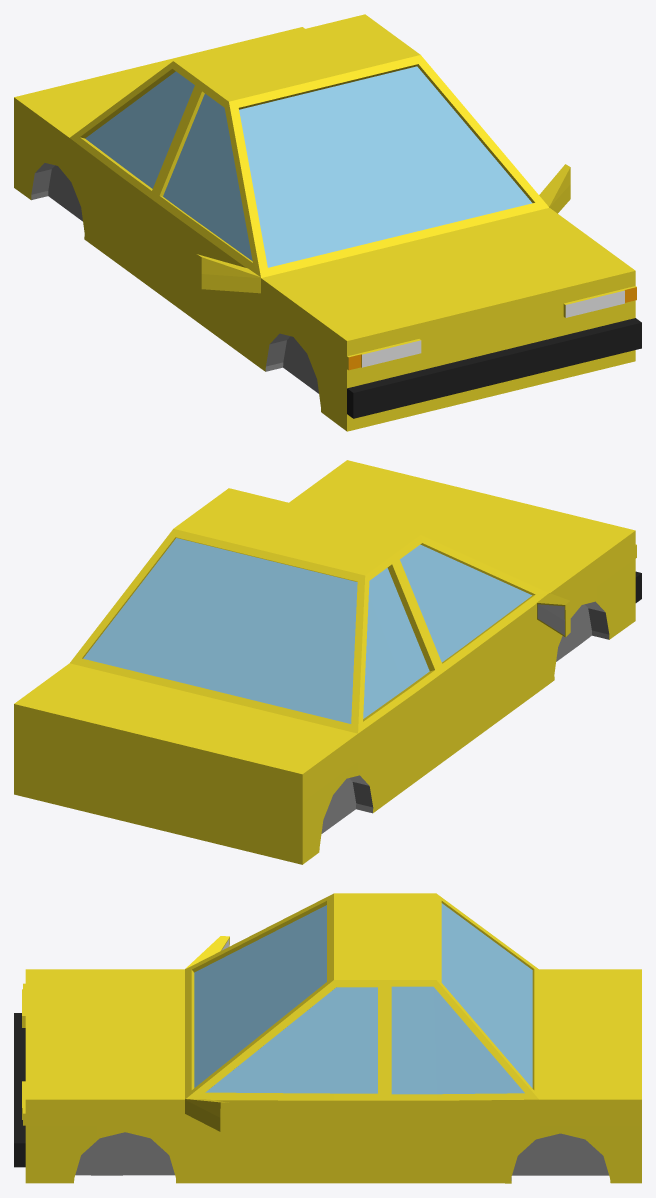
The model's file is cars.glb.
The picture shows the model from 3 angles, top to bottom: view 1: azimuth 30°, elevation 25°; view 2: azimuth 150°, elevation 25°; view 3: azimuth 270°, elevation 25°; orthographic projection. The views are drawn at different scales.
Visible parts, largest first — view 1: Car; view 2: Car; view 3: Car.
Boxes of the visible parts, x1,y1,x2,y2 form: Car: [14, 14, 641, 431]; Car: [14, 460, 641, 864]; Car: [14, 893, 641, 1183].
Size of the model in its own units: 2.56 by 1.3 by 4.08.
Materials: 3 (3 with a texture image).
